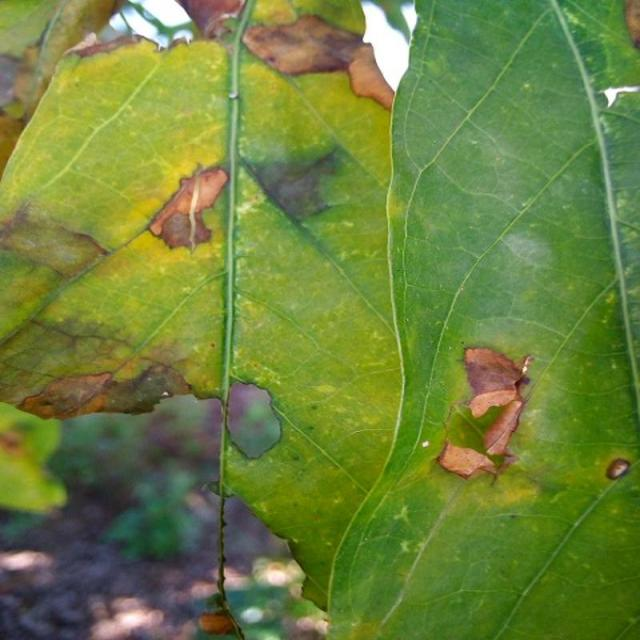cassava leaf: (0, 0, 638, 638), (326, 0, 638, 638)
